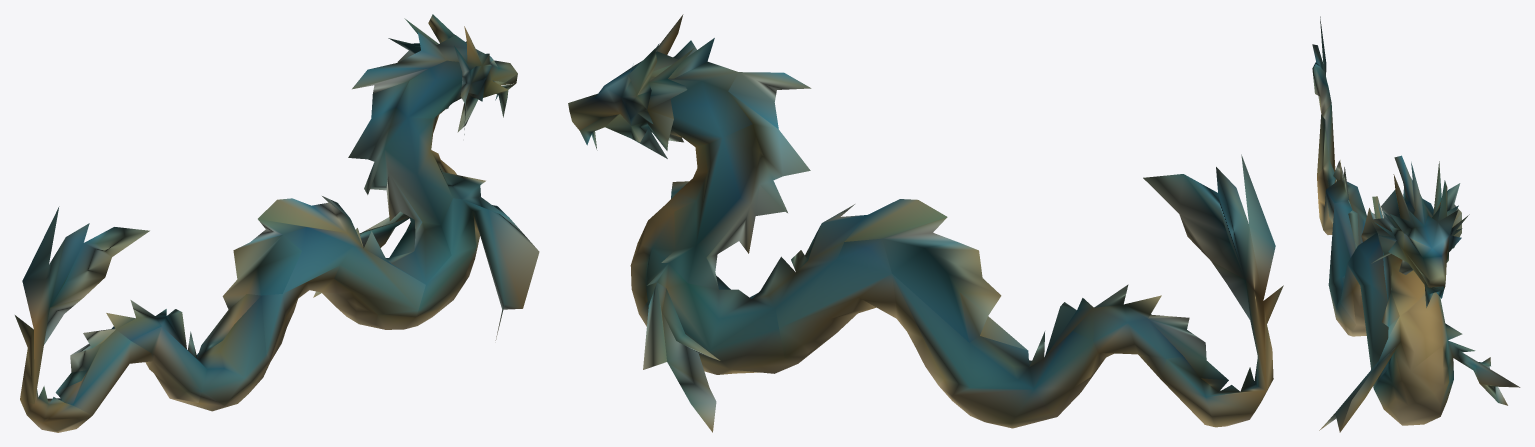
The model's file is beast-serpent.lod.glb.
3 renders of one model, left to right at view 1: azimuth 30°, elevation 25°; view 2: azimuth 150°, elevation 25°; view 3: azimuth 270°, elevation 25°, orthographic. The views are drawn at different scales.
Parts seen in each view (by area): view 1: tripo_node_52fd83d3-85c7-47cb-94c9-2cc5e0d3d771; view 2: tripo_node_52fd83d3-85c7-47cb-94c9-2cc5e0d3d771; view 3: tripo_node_52fd83d3-85c7-47cb-94c9-2cc5e0d3d771.
Part boxes in pixels (x1,y1,x2,y2): tripo_node_52fd83d3-85c7-47cb-94c9-2cc5e0d3d771: (15, 14, 539, 432); tripo_node_52fd83d3-85c7-47cb-94c9-2cc5e0d3d771: (568, 14, 1283, 432); tripo_node_52fd83d3-85c7-47cb-94c9-2cc5e0d3d771: (1312, 16, 1520, 432).
Size of the model in its own units: 0.9267 by 0.4788 by 0.3266.
